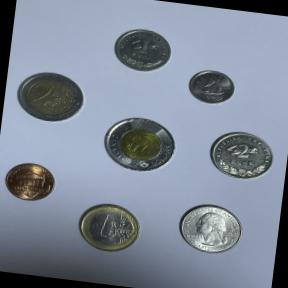1 Euro: (73, 198, 146, 258)
2 Euro: (10, 66, 90, 130)
Canda-10cent-: (184, 65, 240, 112)
Canda-2Dollar-: (96, 110, 182, 180)
Croatia-2Kune-: (201, 124, 280, 190)
US-1cent-: (0, 158, 61, 208)
US-25cent-: (172, 198, 250, 262)
